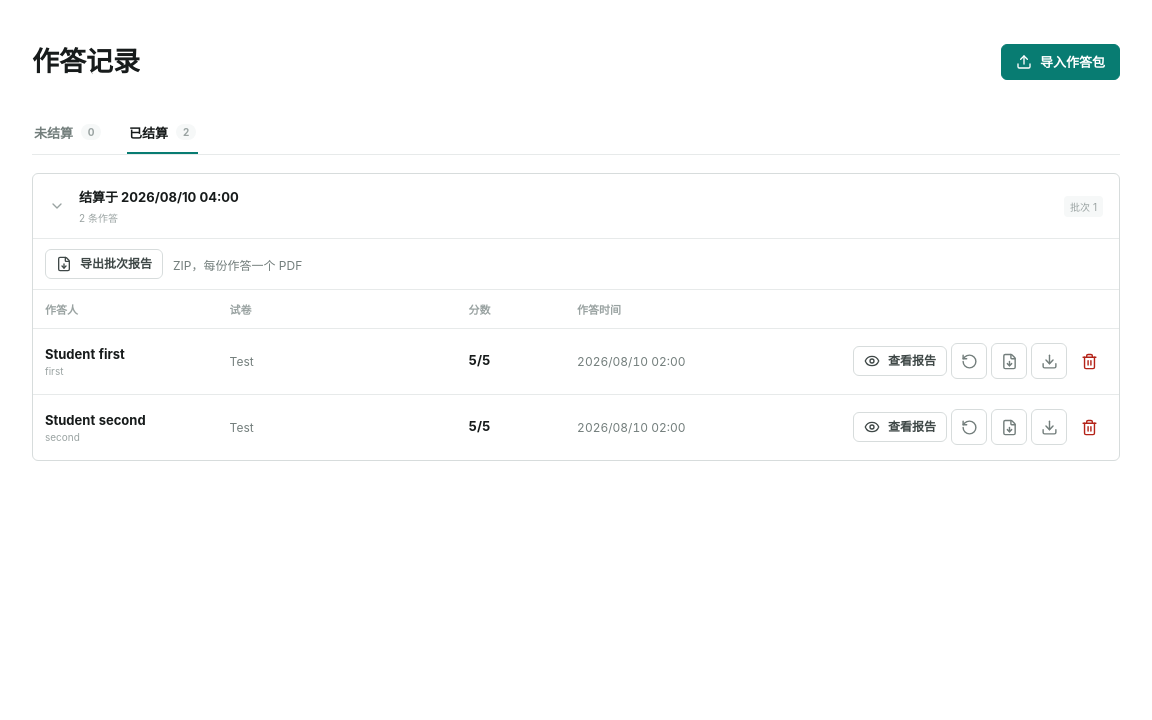
Test: submission grading UI › ignores a stale report response after switching submissions
Click the button "查看报告" in the row of "Student first".
click(900, 361)  # box [853,346,947,376]
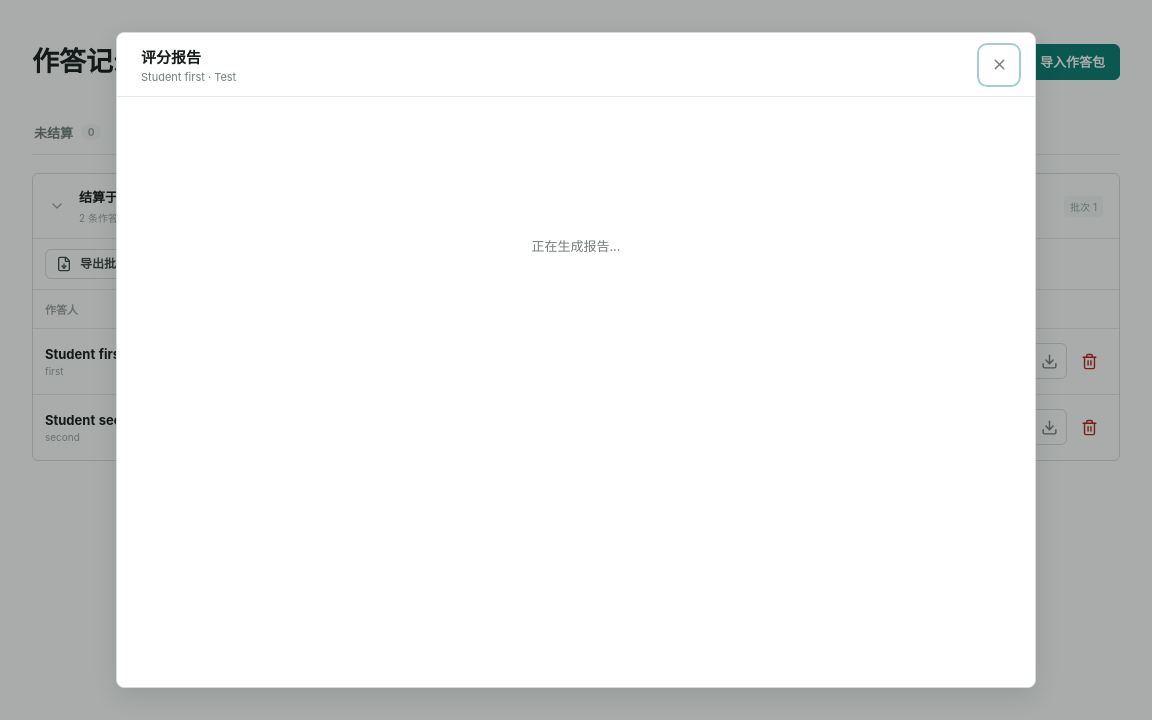
Click the button named "关闭报告".
click(999, 64)  # box [981,46,1017,82]
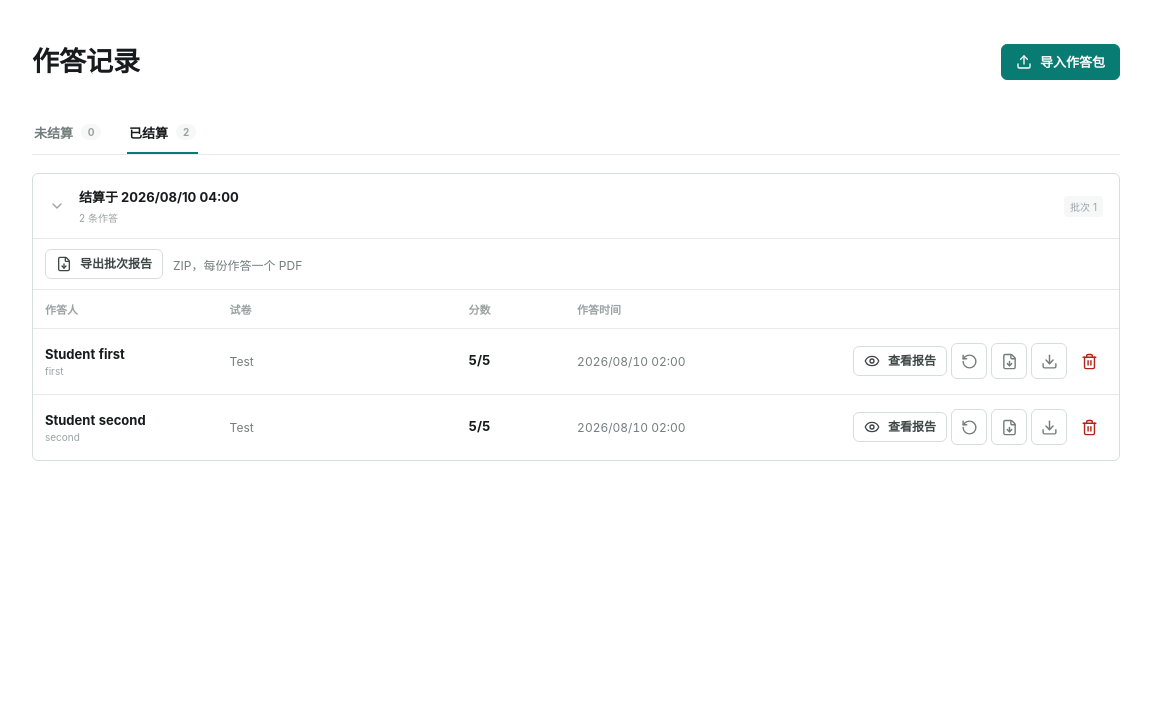
Click the button "查看报告" in the row of "Student second".
click(900, 427)  # box [853,412,947,442]
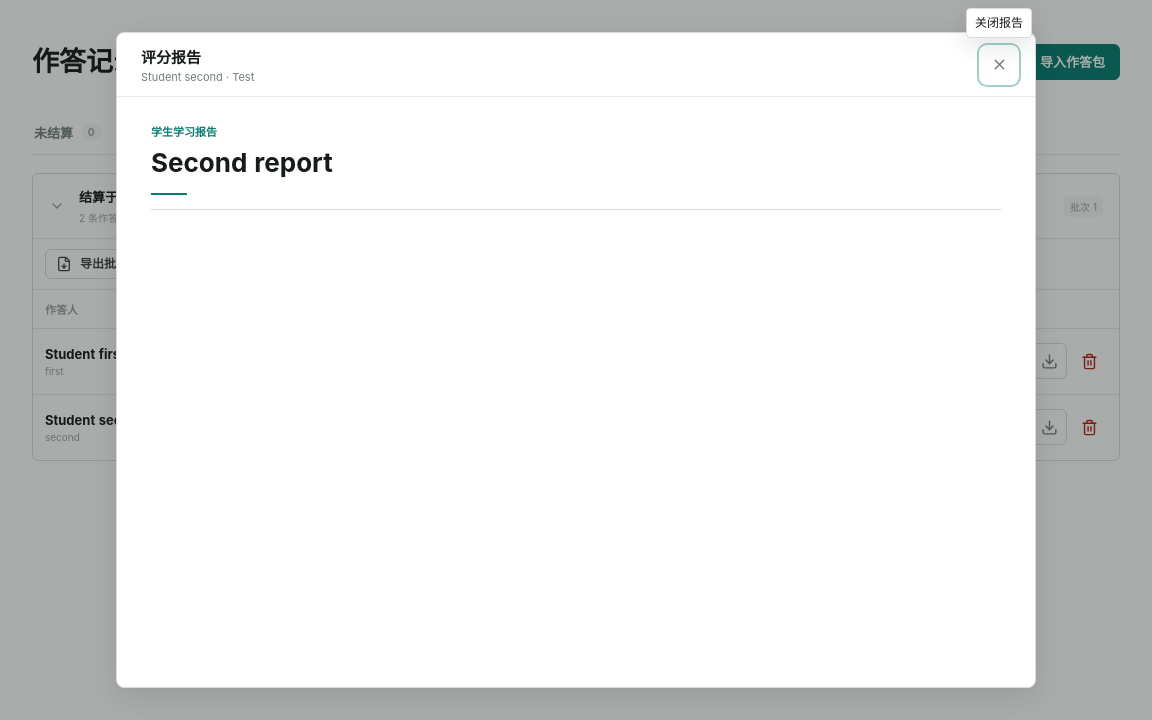
Check: the heading "Second report" is shown, box [151,125,1001,210]
